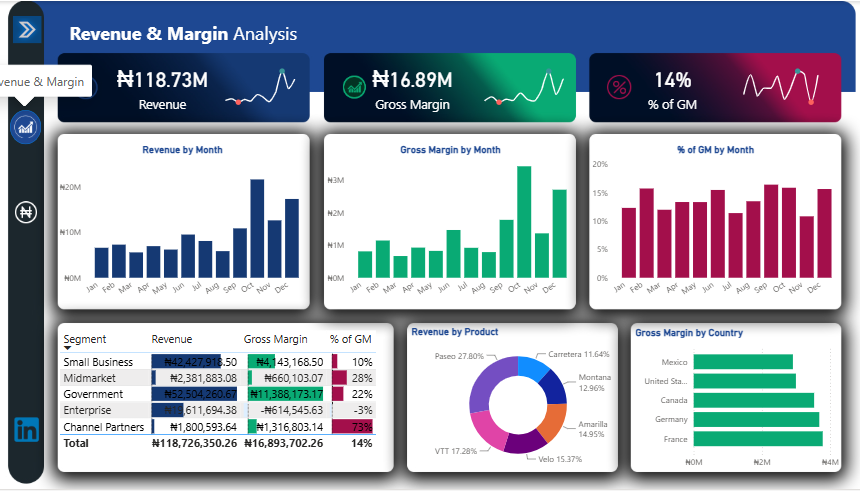

The dashboard page shown, as its layout file describes it:
{"tool":"powerbi","page":{"name":"Margin Analysis","canvas":[1280,720],"ordinal":0},"visuals":[{"type":"card","fields":{"Values":["DAX Measure.Revenue"]},"box":[161,70.4,175.3,112.1],"z":0},{"type":"card","fields":{"Values":["DAX Measure.Gross Margin"]},"box":[530.3,70.4,175.3,112.1],"z":1000},{"type":"card","fields":{"Values":["DAX Measure.% of GM"]},"box":[914,70.4,175.3,112.1],"z":2000},{"type":"clusteredColumnChart","fields":{"Y":["DAX Measure.Revenue"],"Category":["Date.Month"]},"box":[92,211.3,373.6,244.3],"z":3000},{"type":"clusteredColumnChart","fields":{"Y":["DAX Measure.Gross Margin"],"Category":["Date.Month"]},"box":[487.2,211.3,373.6,244.3],"z":4000},{"type":"clusteredColumnChart","fields":{"Y":["DAX Measure.% of GM"],"Category":["Date.Month"]},"box":[878.1,211.3,373.6,244.3],"z":5000},{"type":"donutChart","fields":{"Category":["ProductDIM.Product"],"Y":["DAX Measure.Revenue"]},"box":[610.8,480,324.8,217],"z":6000},{"type":"clusteredBarChart","fields":{"Category":["RegionalDIM.Country"],"Y":["DAX Measure.Gross Margin"]},"box":[941.3,481.4,310.4,217],"z":7000},{"type":"tableEx","fields":{"Values":["Fact.Segment","DAX Measure.Revenue","DAX Measure.Gross Margin","DAX Measure.% of GM"]},"box":[92,481.4,495.8,194],"z":8000},{"type":"textbox","box":[106.2,23.1,373.9,53.9],"z":9000},{"type":"PBI_CV_25997FEB_F466_44FA_B562_AC4063283C4C","fields":{"axis":["Date.Month"],"measure":["DAX Measure.% of GM"]},"box":[1089.2,87.7,149.2,73.8],"z":10000},{"type":"PBI_CV_25997FEB_F466_44FA_B562_AC4063283C4C","fields":{"axis":["Date.Month"],"measure":["DAX Measure.Gross Margin"]},"box":[706.1,87.7,155.4,73.8],"z":11000},{"type":"PBI_CV_25997FEB_F466_44FA_B562_AC4063283C4C","fields":{"measure":["DAX Measure.Revenue"],"axis":["Date.Month"]},"box":[324.6,87.7,141.5,73.8],"z":12000},{"type":"actionButton","box":[27.7,21.5,41.5,40],"z":13000},{"type":"shape","box":[23.8,160.7,46.1,50.6],"z":14000},{"type":"image","box":[18.7,161,54.6,46],"z":15000},{"type":"image","box":[17.2,288.9,58.9,44.5],"z":16000},{"type":"image","box":[21.6,609.3,51.7,46],"z":24000}]}

Visuals, with their boxes on the page's 1280x720 design canvas (x1, y1, x2, y2). These are canvas units, not pixel positions in the 860x491 screenshot, which may show the page scaled, cropped or inside an application window:
card - DAX Measure.Revenue: Rect(161, 70, 336, 182)
card - DAX Measure.Gross Margin: Rect(530, 70, 706, 182)
card - DAX Measure.% of GM: Rect(914, 70, 1089, 182)
clusteredColumnChart - DAX Measure.Revenue x Date.Month: Rect(92, 211, 466, 456)
clusteredColumnChart - DAX Measure.Gross Margin x Date.Month: Rect(487, 211, 861, 456)
clusteredColumnChart - DAX Measure.% of GM x Date.Month: Rect(878, 211, 1252, 456)
donutChart - ProductDIM.Product x DAX Measure.Revenue: Rect(611, 480, 936, 697)
clusteredBarChart - RegionalDIM.Country x DAX Measure.Gross Margin: Rect(941, 481, 1252, 698)
tableEx - Fact.Segment x DAX Measure.Revenue: Rect(92, 481, 588, 675)
textbox: Rect(106, 23, 480, 77)
PBI_CV_25997FEB_F466_44FA_B562_AC4063283C4C - Date.Month x DAX Measure.% of GM: Rect(1089, 88, 1238, 162)
PBI_CV_25997FEB_F466_44FA_B562_AC4063283C4C - Date.Month x DAX Measure.Gross Margin: Rect(706, 88, 862, 162)
PBI_CV_25997FEB_F466_44FA_B562_AC4063283C4C - DAX Measure.Revenue x Date.Month: Rect(325, 88, 466, 162)
actionButton: Rect(28, 22, 69, 62)
shape: Rect(24, 161, 70, 211)
image: Rect(19, 161, 73, 207)
image: Rect(17, 289, 76, 333)
image: Rect(22, 609, 73, 655)
